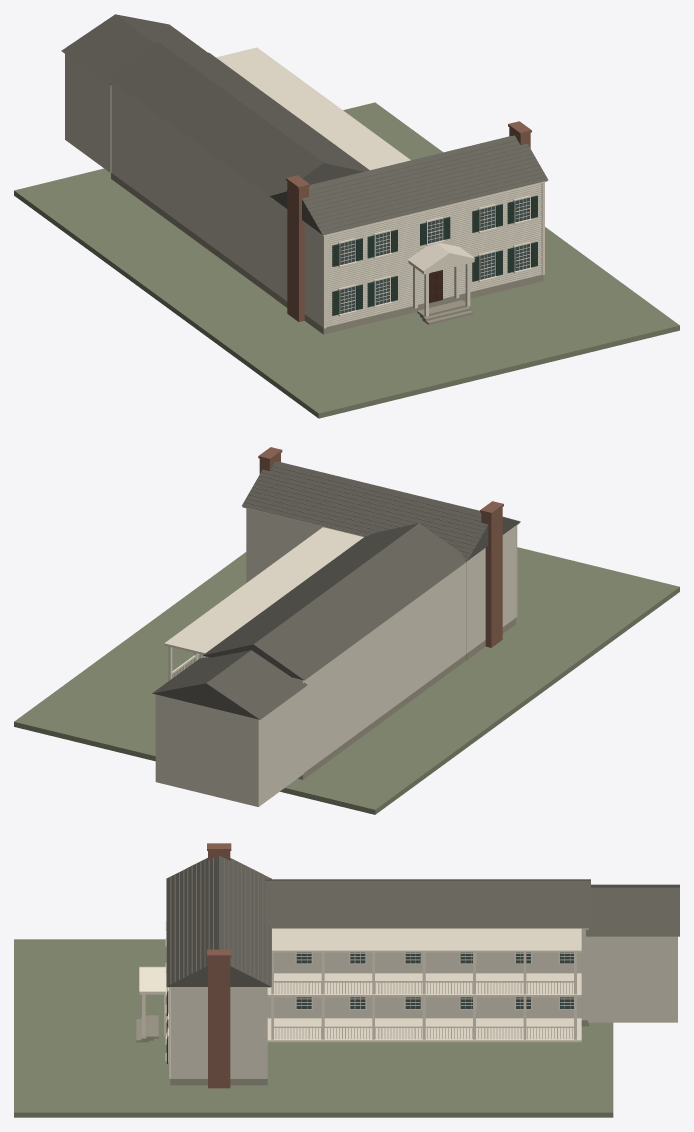
The model's file is house.glb.
3 renders of one model, top to bottom at view 1: azimuth 30°, elevation 25°; view 2: azimuth 150°, elevation 25°; view 3: azimuth 270°, elevation 25°, orthographic.
Parts seen in each view (by area): view 1: Cutaway landscape, Ell roof, Brick ell, limewash, Federal block, Roof, Beaded clapboard courses, East gallery decks, Rear roof, Roof battens, Rear addition, Shutters, South front sashes.001 (+9 smaller); view 2: Cutaway landscape, Ell roof, Brick ell, limewash, Rear addition, Roof, East gallery decks, Rear roof, Federal block, Roof battens, Gable end chimney, North ell foundation; view 3: Cutaway landscape, East gallery decks, Ell roof, Brick ell, limewash, Roof, Rear addition, Federal block, Rear roof, Roof battens, Gable end chimney, Gallery balustrades, Ell lights (+8 smaller).
Boxes of the visible parts, box(x1,y1,x2,y2) form: Cutaway landscape: box(14, 102, 679, 418); Ell roof: box(107, 41, 369, 198); Brick ell, limewash: box(111, 81, 274, 291); Federal block: box(274, 183, 541, 327); Roof: box(269, 135, 547, 234); Beaded clapboard courses: box(326, 183, 541, 326); East gallery decks: box(216, 47, 410, 170); Rear roof: box(61, 14, 206, 85); Roof battens: box(269, 136, 548, 235); Rear addition: box(65, 54, 111, 172); Shutters: box(332, 195, 537, 315); South front sashes.001: box(340, 197, 529, 313); Cutaway landscape: box(14, 547, 679, 814); Ell roof: box(203, 523, 469, 680); Brick ell, limewash: box(206, 562, 466, 772); Rear addition: box(155, 688, 304, 806); Roof: box(242, 461, 520, 560); East gallery decks: box(164, 527, 363, 654); Rear roof: box(152, 650, 307, 719); Federal block: box(246, 508, 515, 653); Roof battens: box(242, 461, 520, 560); Gable end chimney: box(259, 453, 502, 647); North ell foundation: box(298, 654, 466, 779); Cutaway landscape: box(14, 939, 613, 1117); East gallery decks: box(267, 928, 581, 1042); Ell roof: box(265, 879, 590, 928); Brick ell, limewash: box(267, 928, 588, 1020); Roof: box(167, 855, 270, 986); Rear addition: box(588, 936, 677, 1022); Federal block: box(170, 987, 267, 1078); Rear roof: box(586, 884, 679, 936); Roof battens: box(166, 858, 271, 986); Gable end chimney: box(208, 851, 230, 1088); Gallery balustrades: box(275, 982, 572, 1038); Ell lights: box(296, 952, 573, 1008).
Size of the model in its own units: 26 by 9.68 by 42.23.
Materials: 12 (2 with a texture image).
